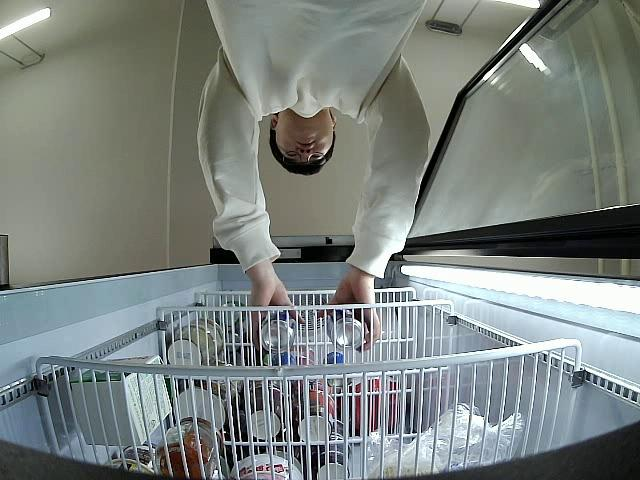00_hand: (318, 276, 382, 353), (251, 275, 306, 347)
13_pocariSweat: (326, 305, 366, 349), (259, 312, 295, 353)
